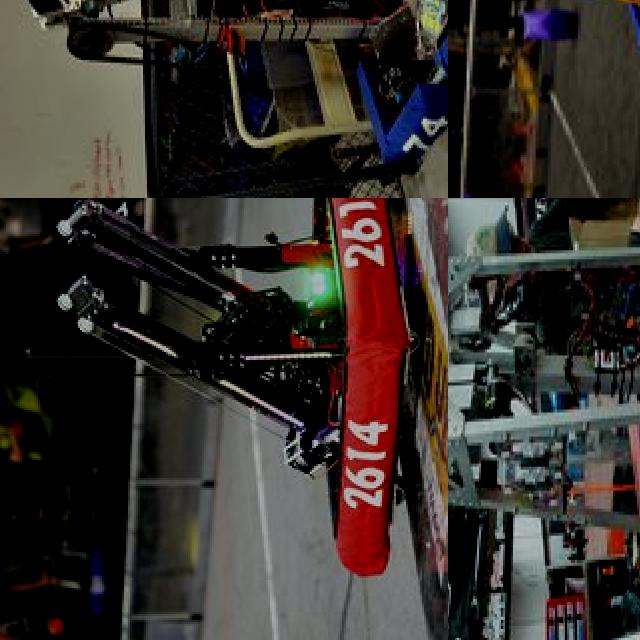FRC-Robots: (0, 198, 432, 512), (0, 0, 448, 198), (448, 198, 640, 619), (448, 0, 640, 64)
